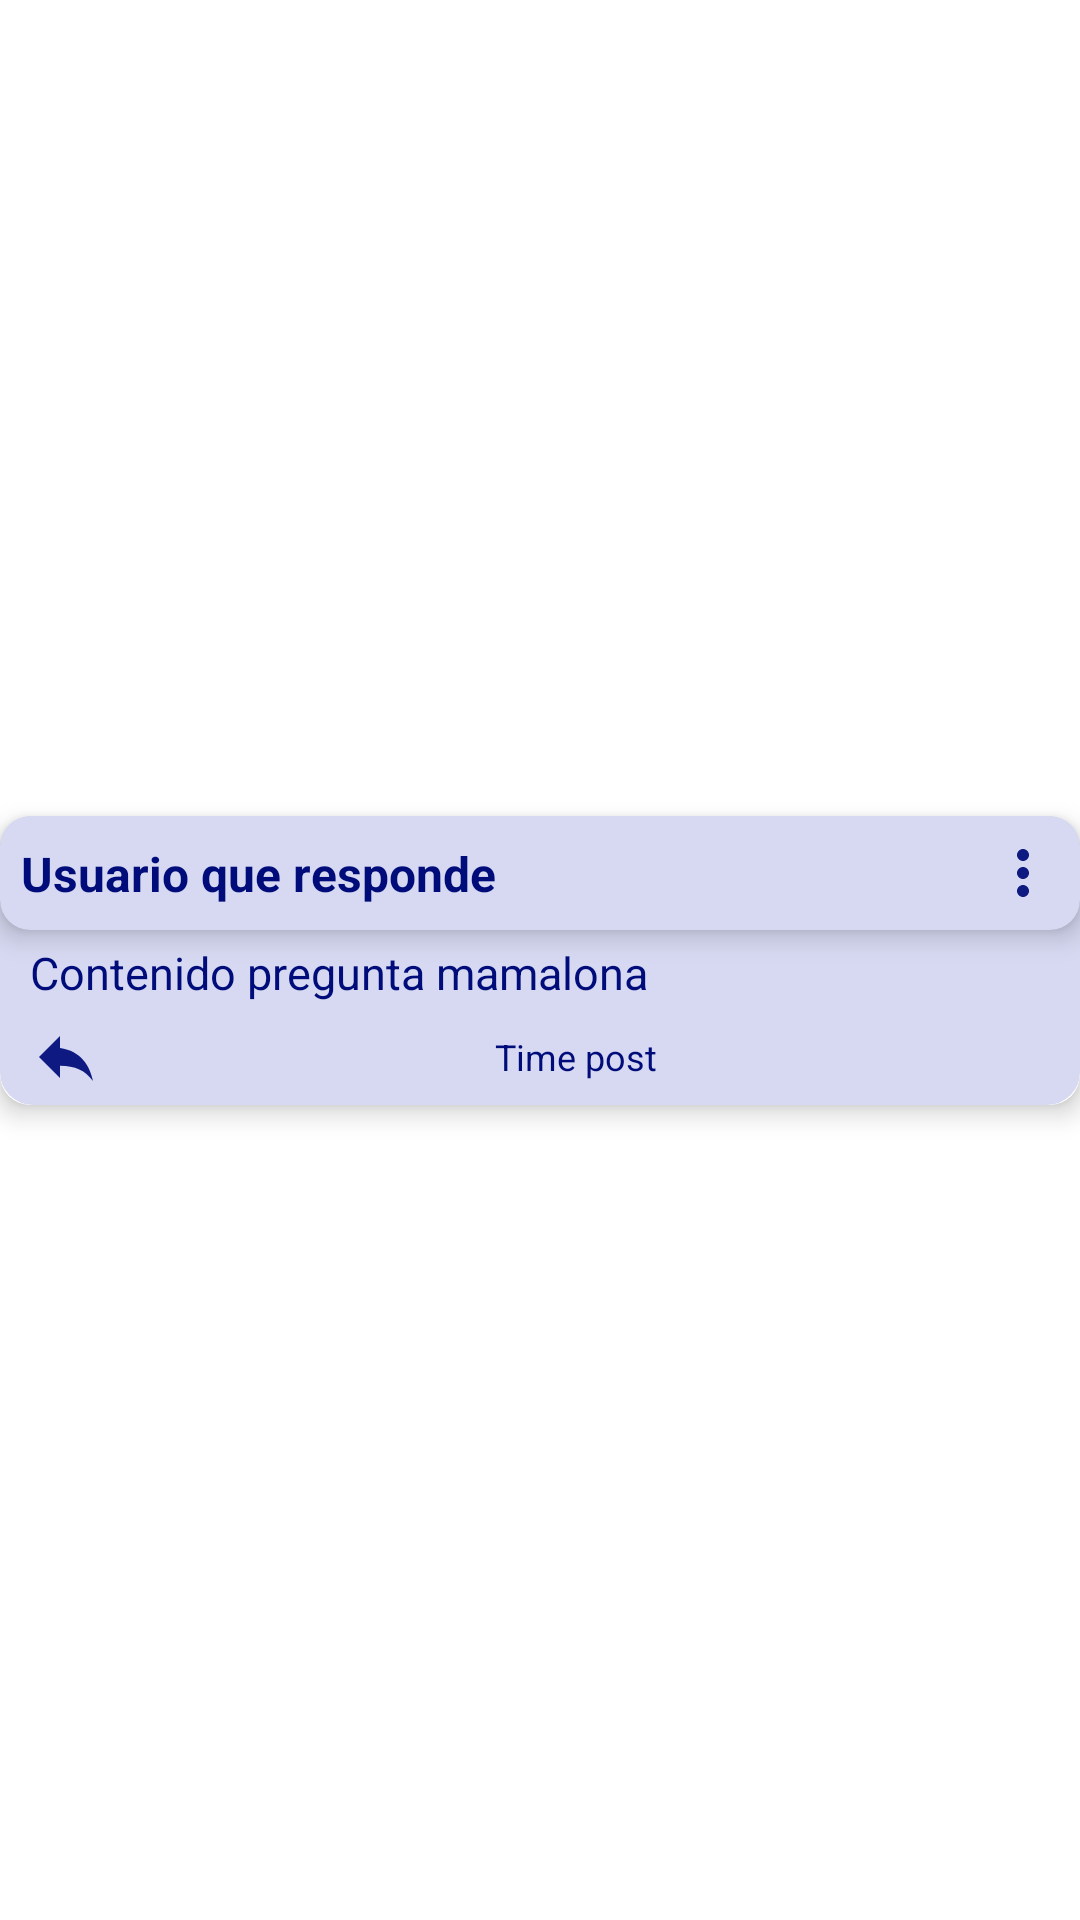

Icons on this 1080 × 1920 Android screen, each with its box as {"left": x1, "top": y1, "right": x2, "bottom": y2}:
more vert: {"left": 1017, "top": 849, "right": 1029, "bottom": 897}
